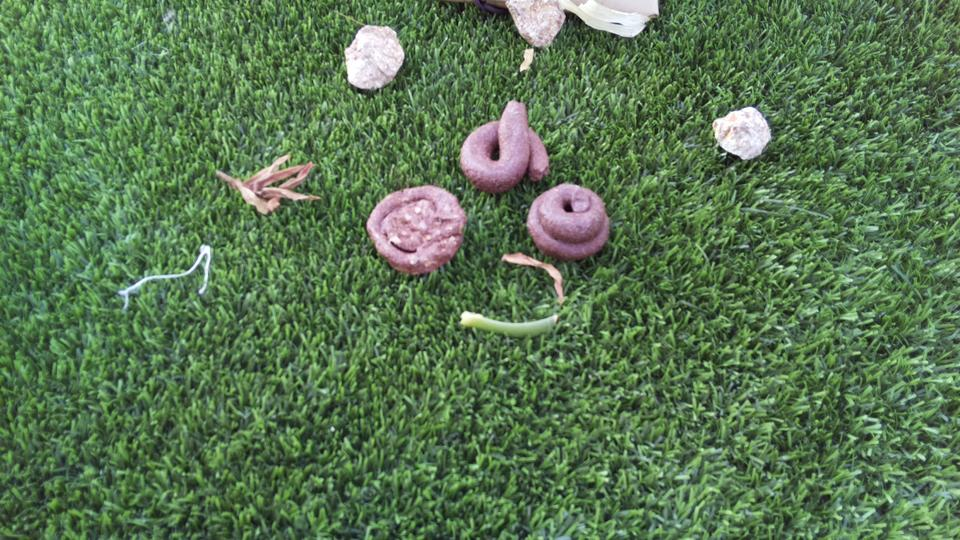poop: (365, 183, 468, 275), (457, 98, 553, 193), (526, 181, 614, 263)
